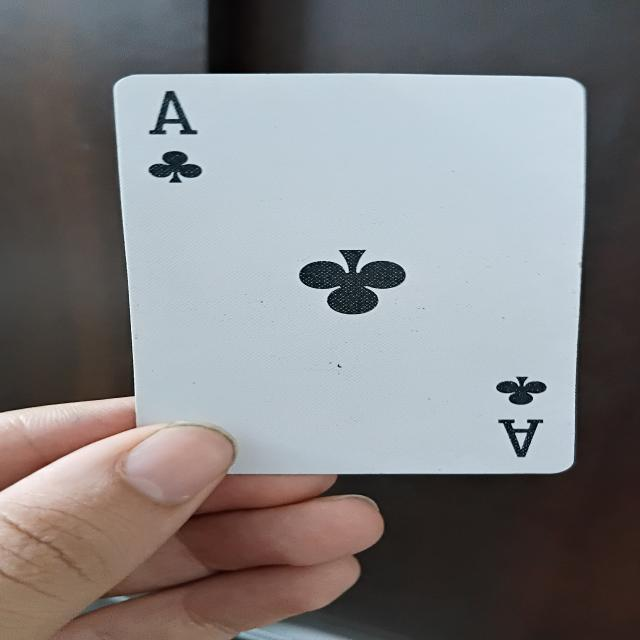AC: (133, 71, 582, 472)
